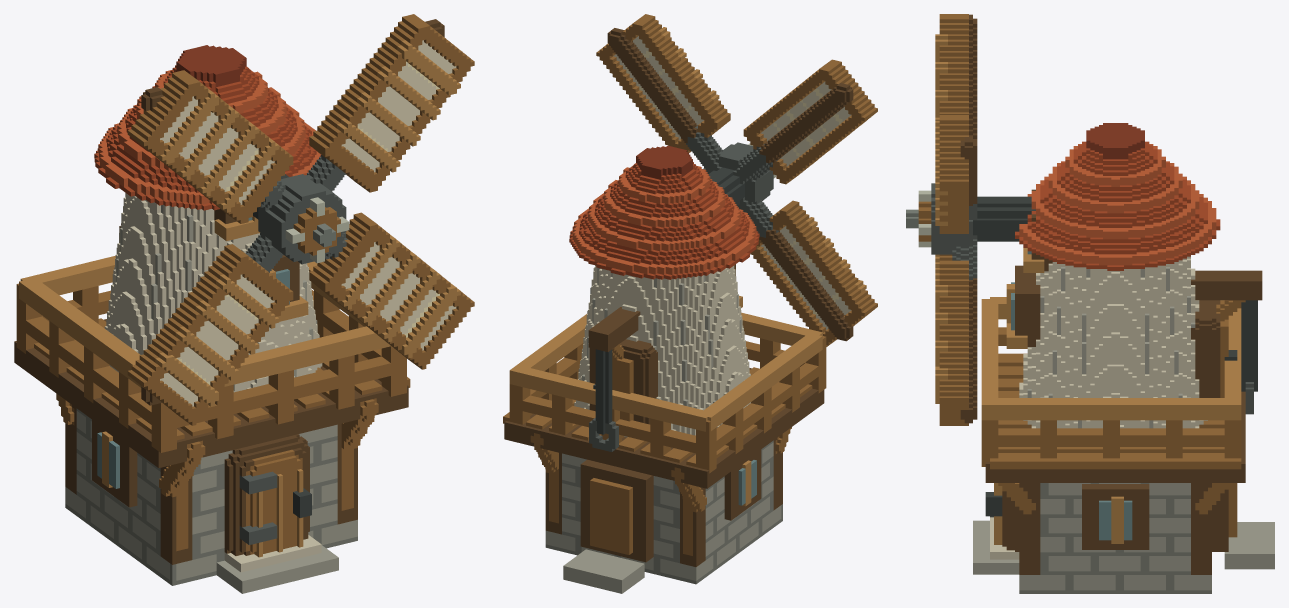
The model's file is windmill.glb.
3 views of the same model, side by side, from view 1: azimuth 30°, elevation 25°; view 2: azimuth 150°, elevation 25°; view 3: azimuth 270°, elevation 25° (orthographic). The views are drawn at different scales.
Parts seen in each view (by area): view 1: windmill; view 2: windmill; view 3: windmill.
Boxes of the visible parts, <box> form: windmill: <box>14,14,474,593</box>; windmill: <box>503,14,877,593</box>; windmill: <box>906,14,1274,593</box>.
Bounding box in the file's own units: 4.51 × 7.04 × 4.84.
